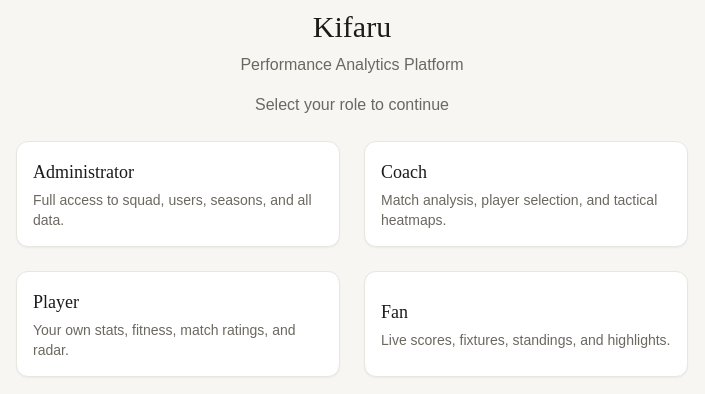
Test: LoginPage › clicking a role card shows the login form
This screenshot has width=705, height=394.
Click the text "Fan": (394, 312) left=381, top=302, right=408, bottom=322
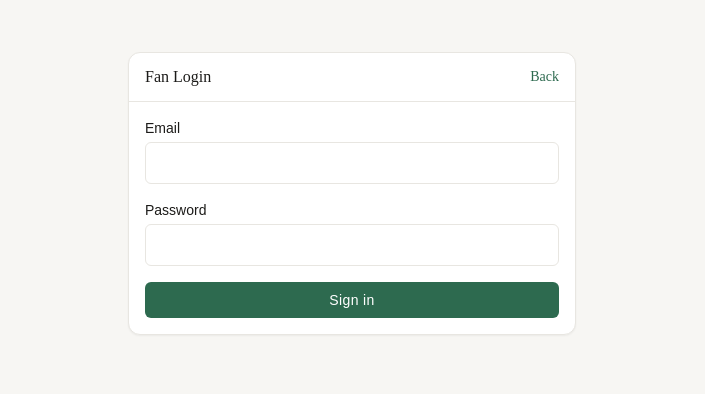
expect the text "Fan login" is shown: met, box left=145, top=64, right=211, bottom=88
expect the field labelled "Email" is shown: met, box left=145, top=142, right=559, bottom=184
